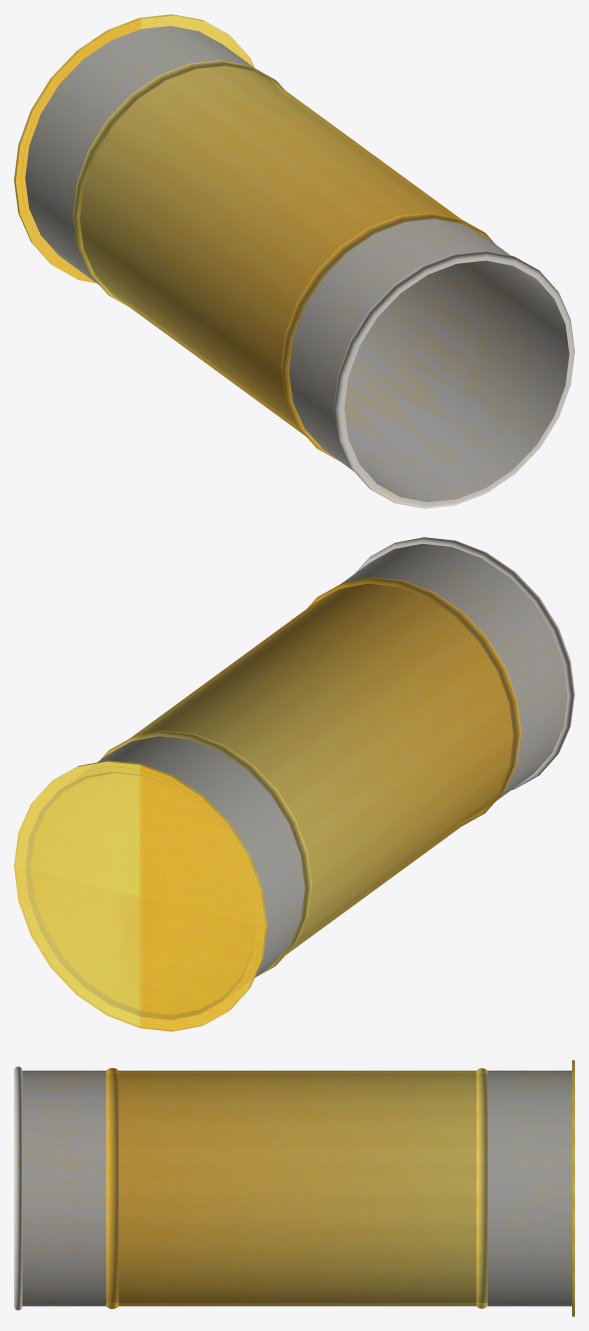
File: model_align.obj
3 views of the same model, one above another, from view 1: azimuth 30°, elevation 25°; view 2: azimuth 150°, elevation 25°; view 3: azimuth 270°, elevation 25° (orthographic). The views are drawn at different scales.
Parts seen in each view (by area): view 1: mesh1_mesh1-geometry; view 2: mesh1_mesh1-geometry; view 3: mesh1_mesh1-geometry.
Part boxes in pixels (left/top/right/bottom): mesh1_mesh1-geometry: left=14, top=14, right=574, bottom=508; mesh1_mesh1-geometry: left=14, top=537, right=574, bottom=1031; mesh1_mesh1-geometry: left=14, top=1060, right=574, bottom=1316.
Bounding box in the file's own units: 0.0662 × 0.0662 × 0.1444.
